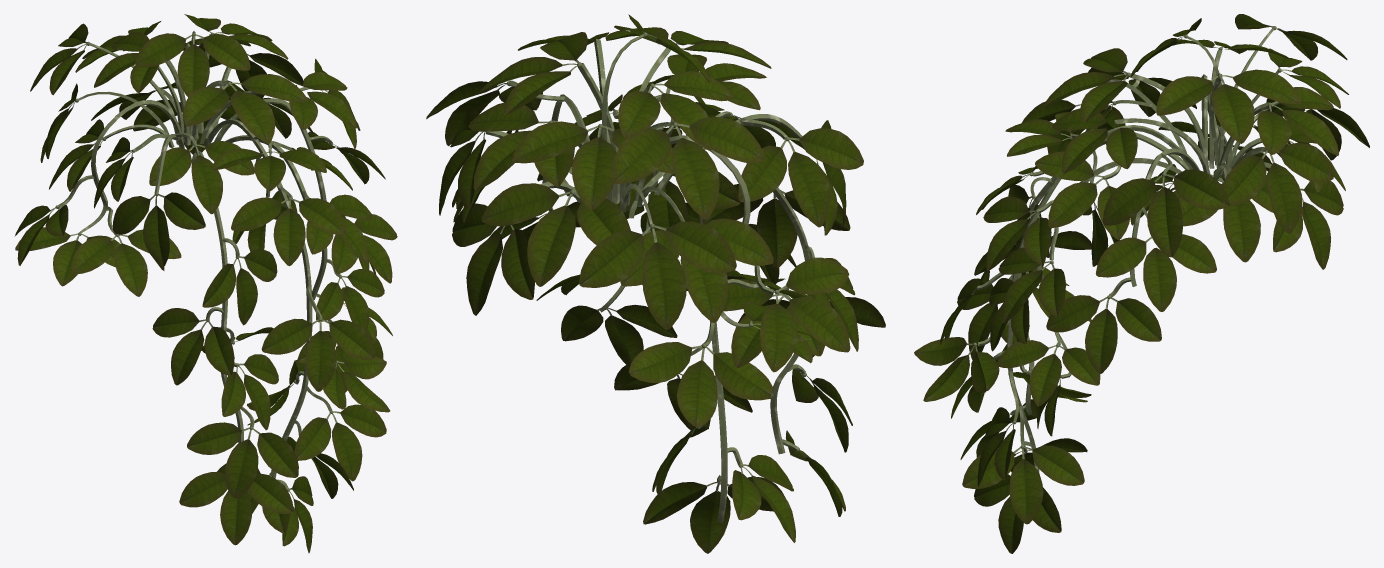
Rendered from Plant_B.fbx.
The picture shows the model from 3 angles, left to right: view 1: azimuth 30°, elevation 25°; view 2: azimuth 150°, elevation 25°; view 3: azimuth 270°, elevation 25°; orthographic projection. The views are drawn at different scales.
Parts seen in each view (by area): view 1: Plant_BBB2, Plant_BBB1; view 2: Plant_BBB1, Plant_BBB2; view 3: Plant_BBB1, Plant_BBB2.
Boxes of the visible parts, <box> form: Plant_BBB2: <box>152,142,397,553</box>; Plant_BBB1: <box>14,14,385,296</box>; Plant_BBB1: <box>426,14,863,372</box>; Plant_BBB2: <box>488,96,885,553</box>; Plant_BBB1: <box>1005,14,1369,311</box>; Plant_BBB2: <box>914,132,1189,553</box>.
Bounding box in the file's own units: 0.2952 × 0.4074 × 0.3346.
